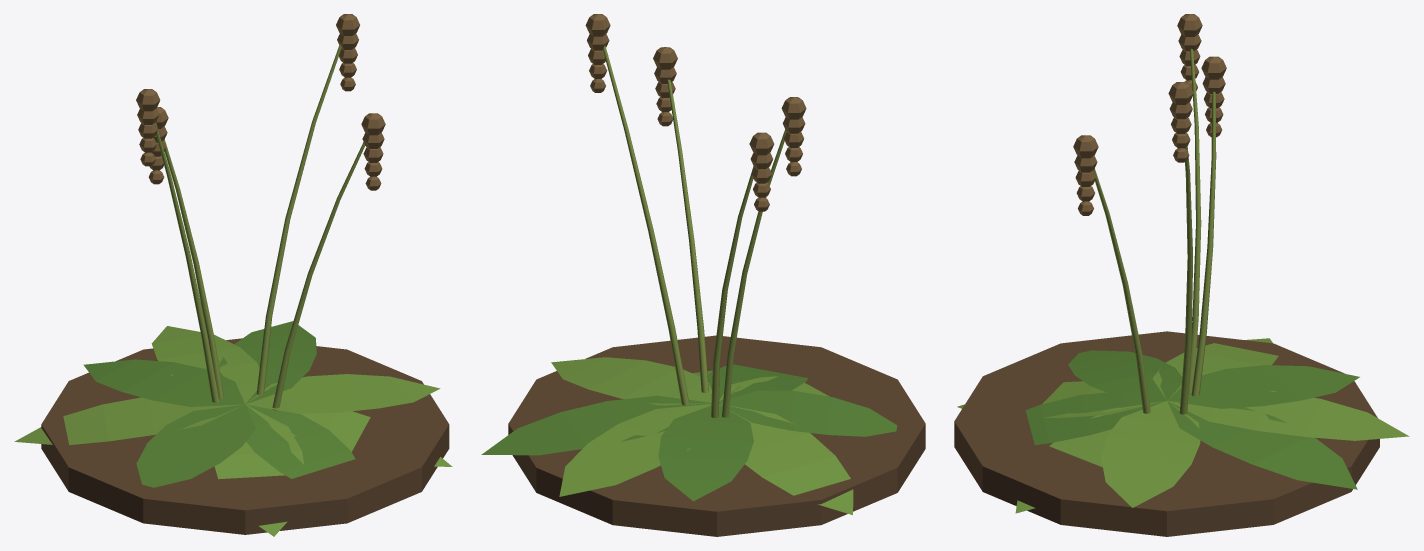
Rendered from wegerich.glb.
3 views of the same model, side by side, from view 1: azimuth 30°, elevation 25°; view 2: azimuth 150°, elevation 25°; view 3: azimuth 270°, elevation 25° (orthographic). The views are drawn at different scales.
Visible parts, largest first — view 1: wegerich; view 2: wegerich; view 3: wegerich.
Boxes of the visible parts, x1,y1,x2,y2 form: wegerich: [14, 14, 452, 536]; wegerich: [481, 14, 925, 536]; wegerich: [954, 14, 1409, 536].
Size of the model in its own units: 0.3065 by 0.3272 by 0.3209.
